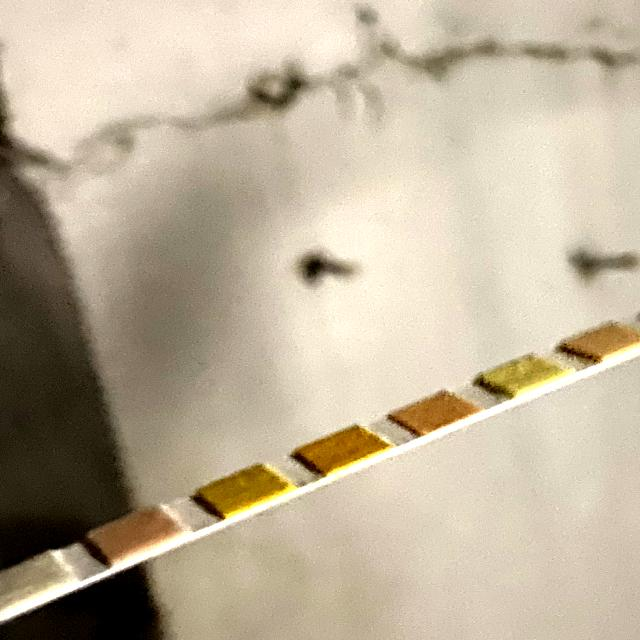Bilirubin: (7, 568, 62, 594)
Blood: (325, 439, 369, 460)
Ketone: (108, 523, 163, 546)
Protein: (504, 361, 547, 385)
SpGravity: (220, 477, 273, 501)
Urobilinogen: (588, 330, 636, 350)
pH: (418, 401, 461, 420)
